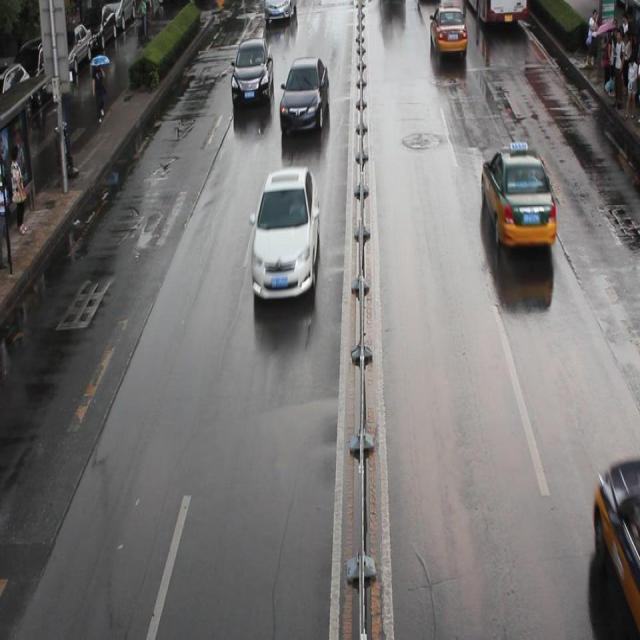car: (250, 168, 319, 300), (591, 457, 640, 640), (480, 145, 554, 246), (278, 54, 329, 134), (229, 37, 274, 104), (428, 8, 466, 54), (264, 1, 295, 18)
van: (462, 1, 526, 24)
